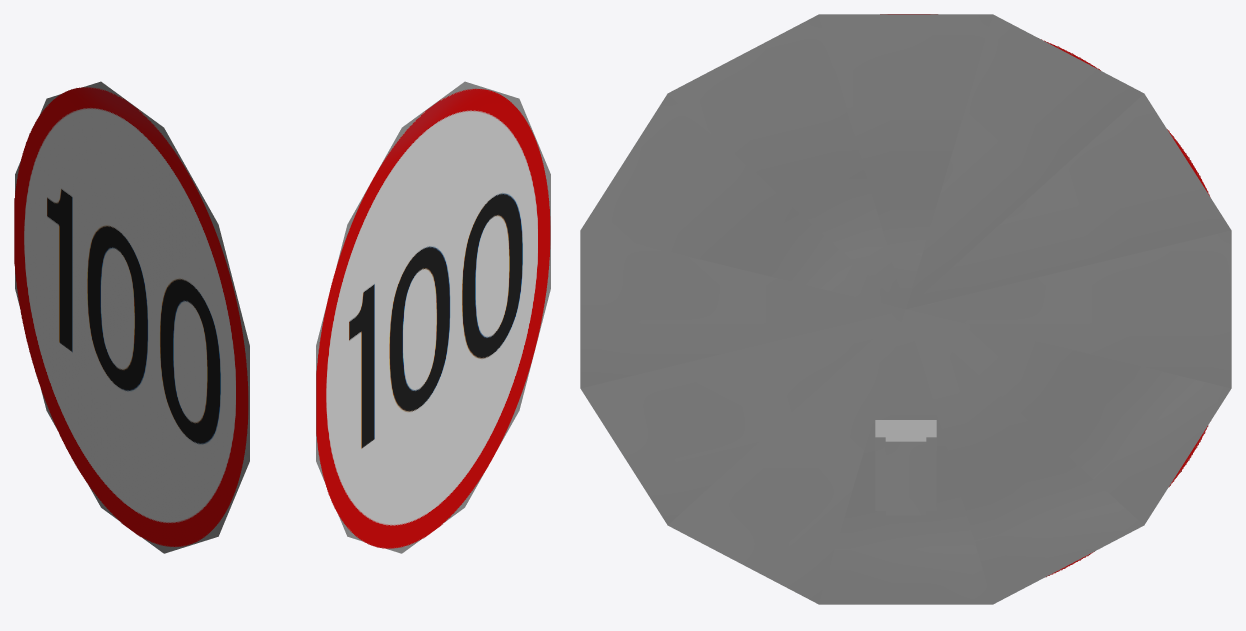
The model's file is speed_100_large.obj.
3 renders of one model, left to right at view 1: azimuth 30°, elevation 25°; view 2: azimuth 150°, elevation 25°; view 3: azimuth 270°, elevation 25°, orthographic. The views are drawn at different scales.
Parts seen in each view (by area): view 1: cube, circle; view 2: cube, circle; view 3: circle, cube.
Part boxes in pixels (left/top/right/bottom): cube: left=14, top=87, right=248, bottom=547; circle: left=15, top=81, right=249, bottom=553; cube: left=316, top=88, right=550, bottom=548; circle: left=316, top=81, right=550, bottom=553; circle: left=580, top=14, right=1231, bottom=604; cube: left=875, top=14, right=1209, bottom=577.
Bounding box in the file's own units: 0.0797 × 1 × 1.
Materials: 2 (2 with a texture image).
